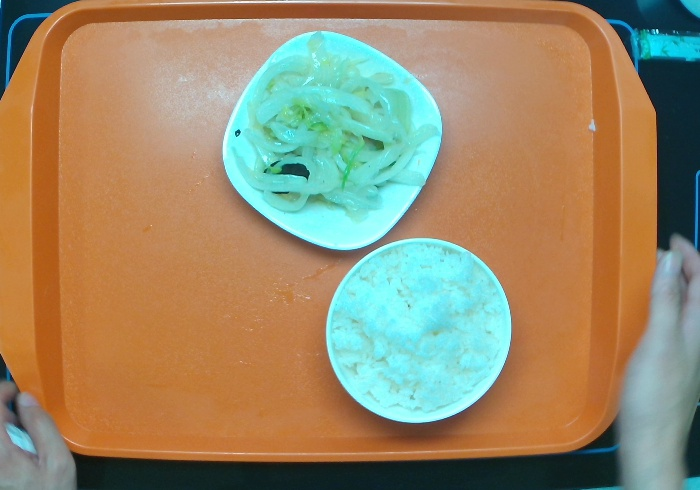ZNLD-Fan_Wan: (323, 235, 515, 425)
ZNLD-Si_Fang_Wan: (220, 28, 445, 252)
